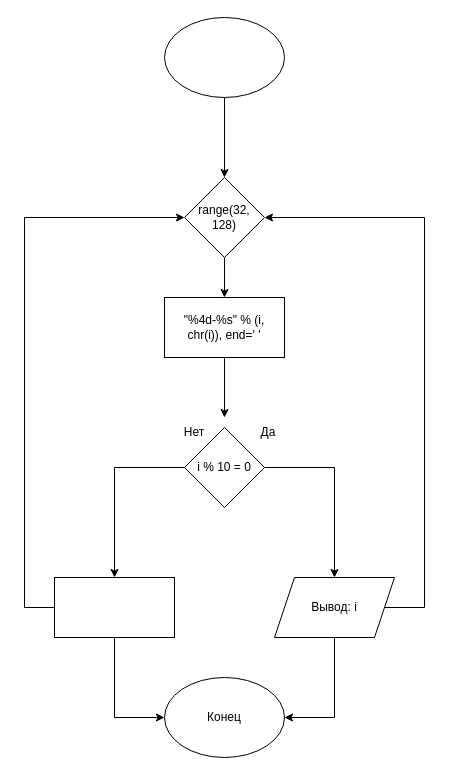
Image size: 450x775. Some labels were removed from this diagram. Each missing label, with the centre of its shape:
pass: (x=114, y=607)
Начало: (x=224, y=57)
